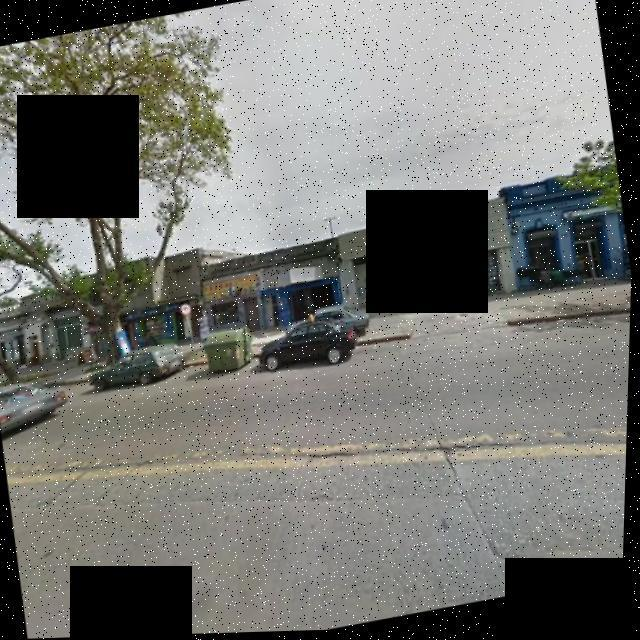bin: (194, 320, 266, 382)
